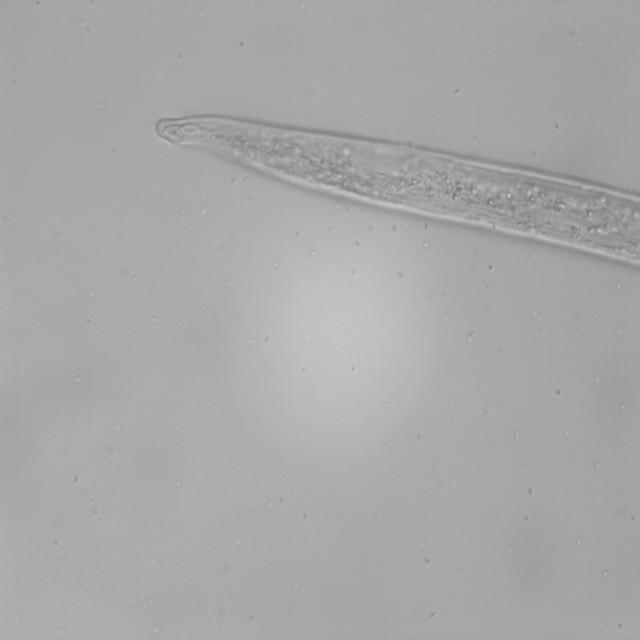Radopholus: (136, 101, 640, 276)
